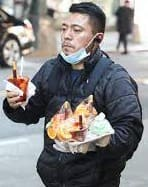with_incorrect_mask: (61, 11, 98, 63)
